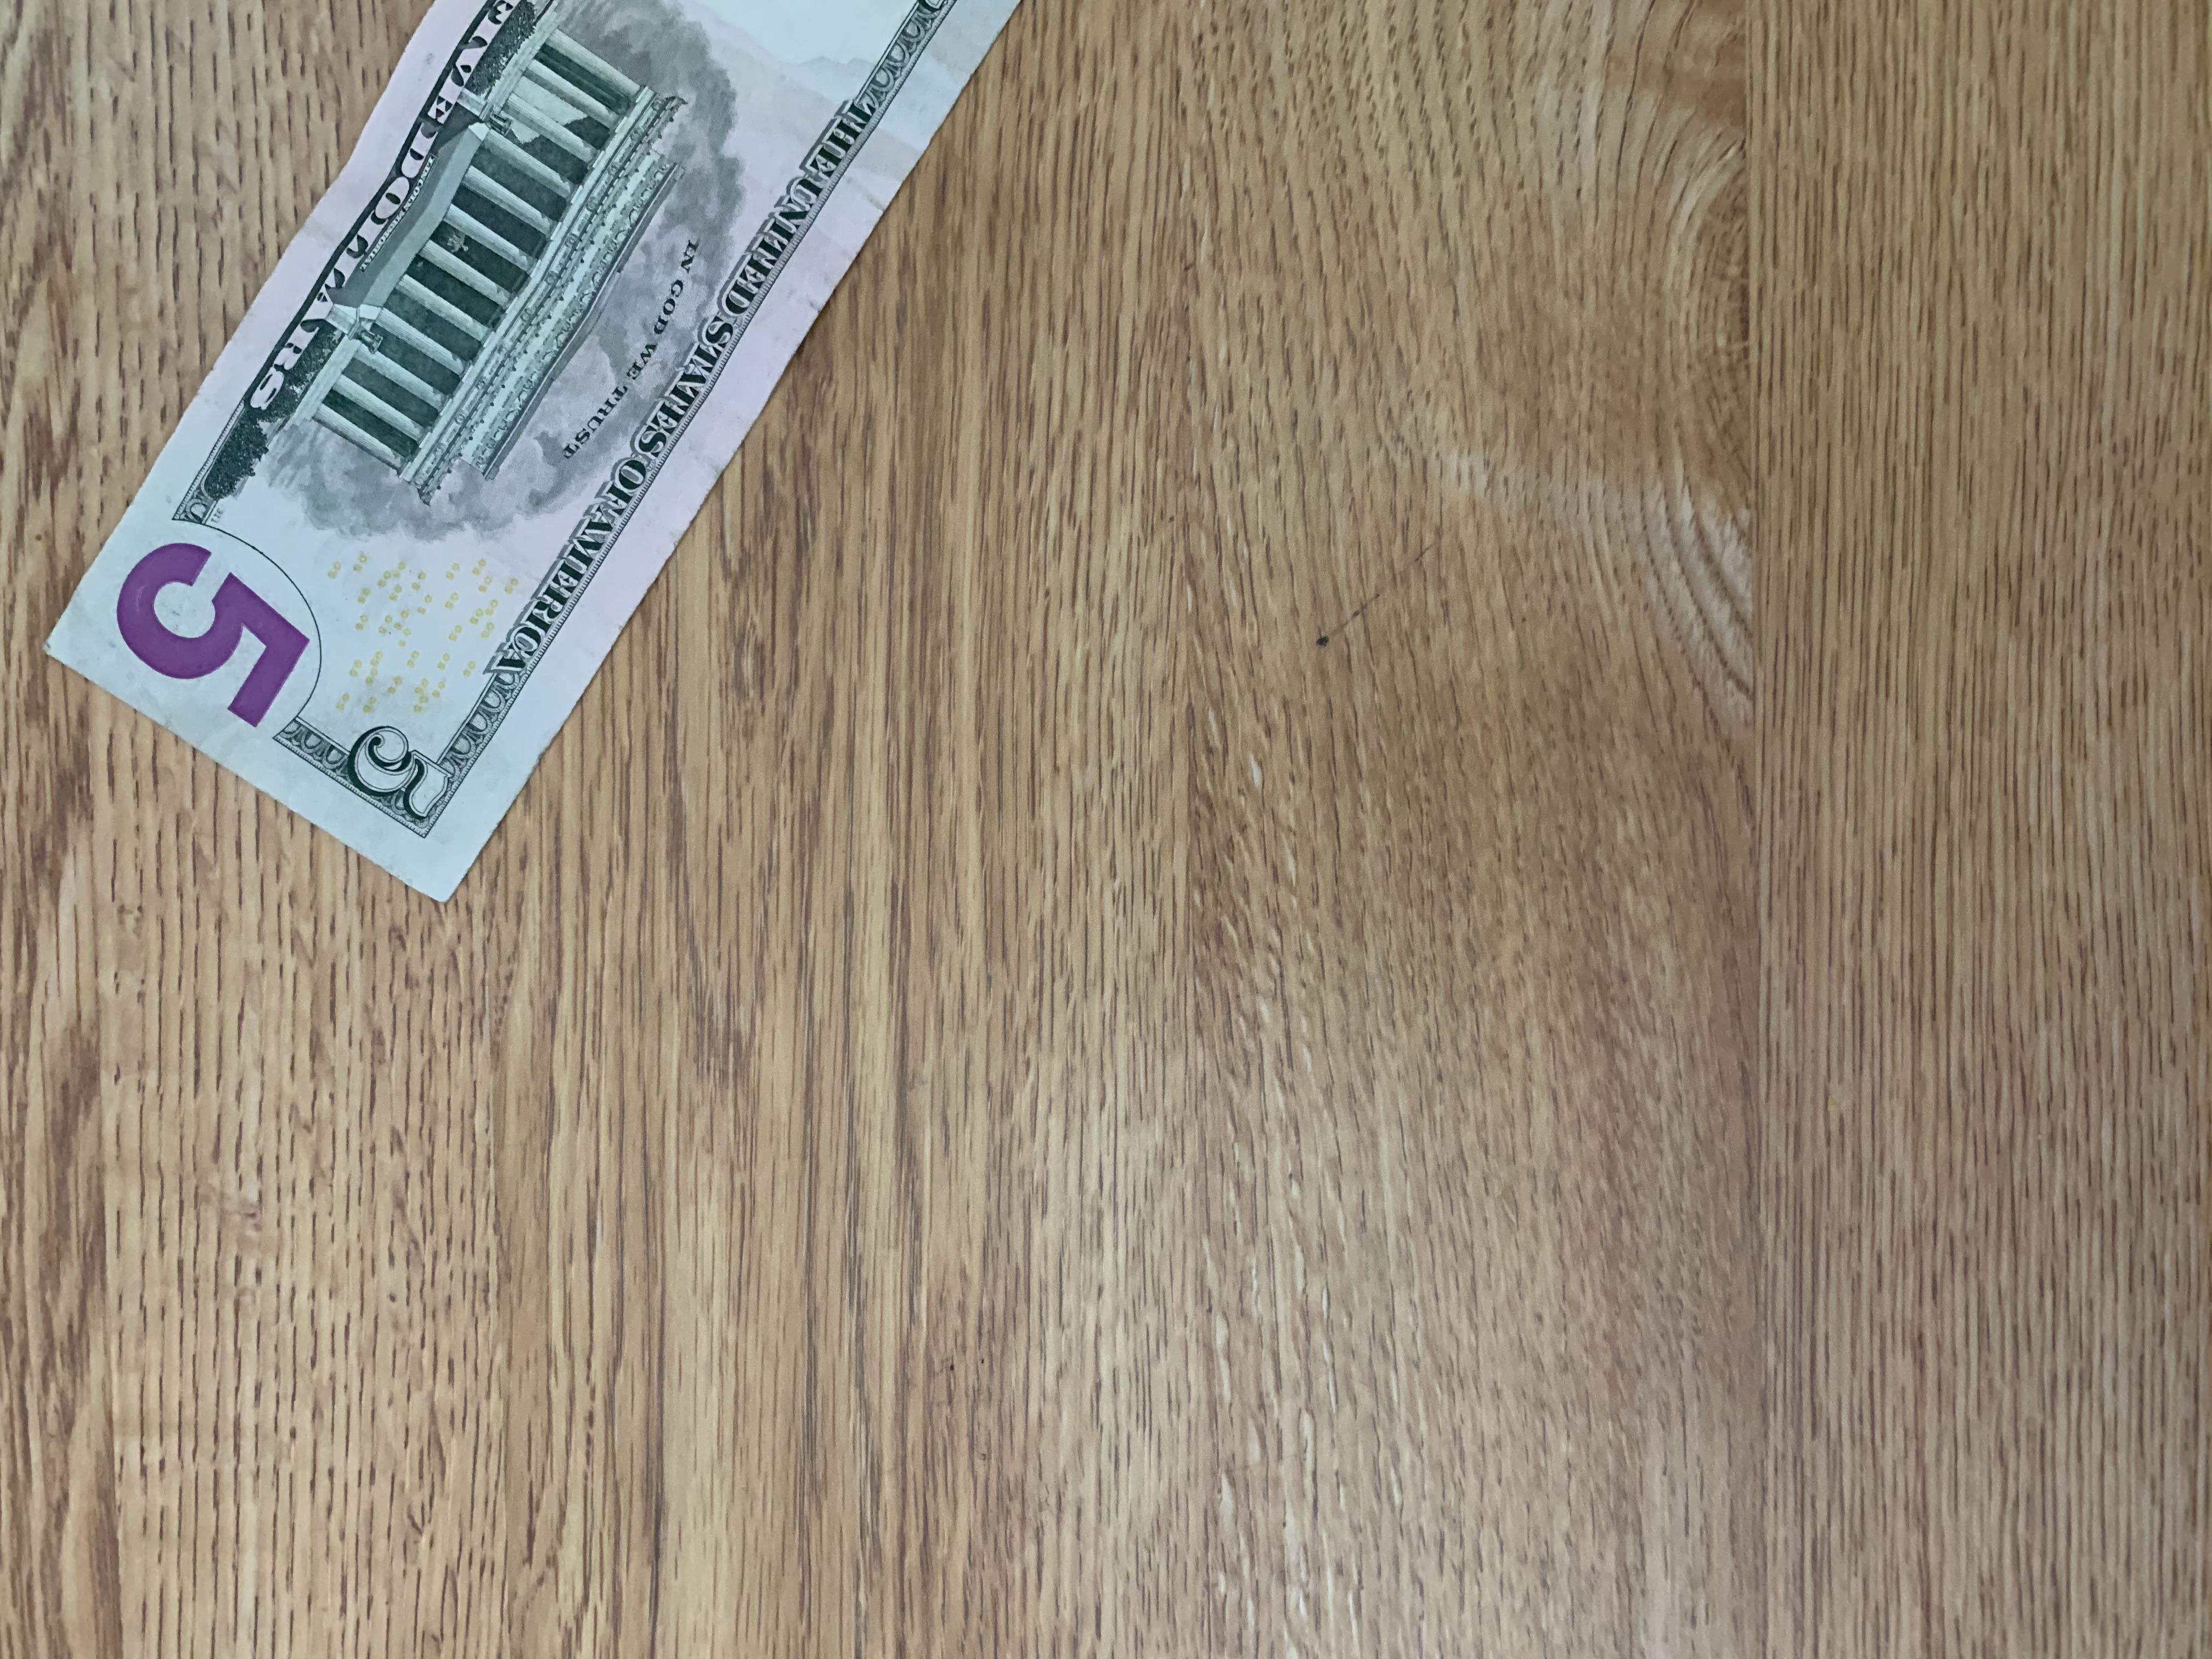FiveBill: (42, 2, 1038, 906)
